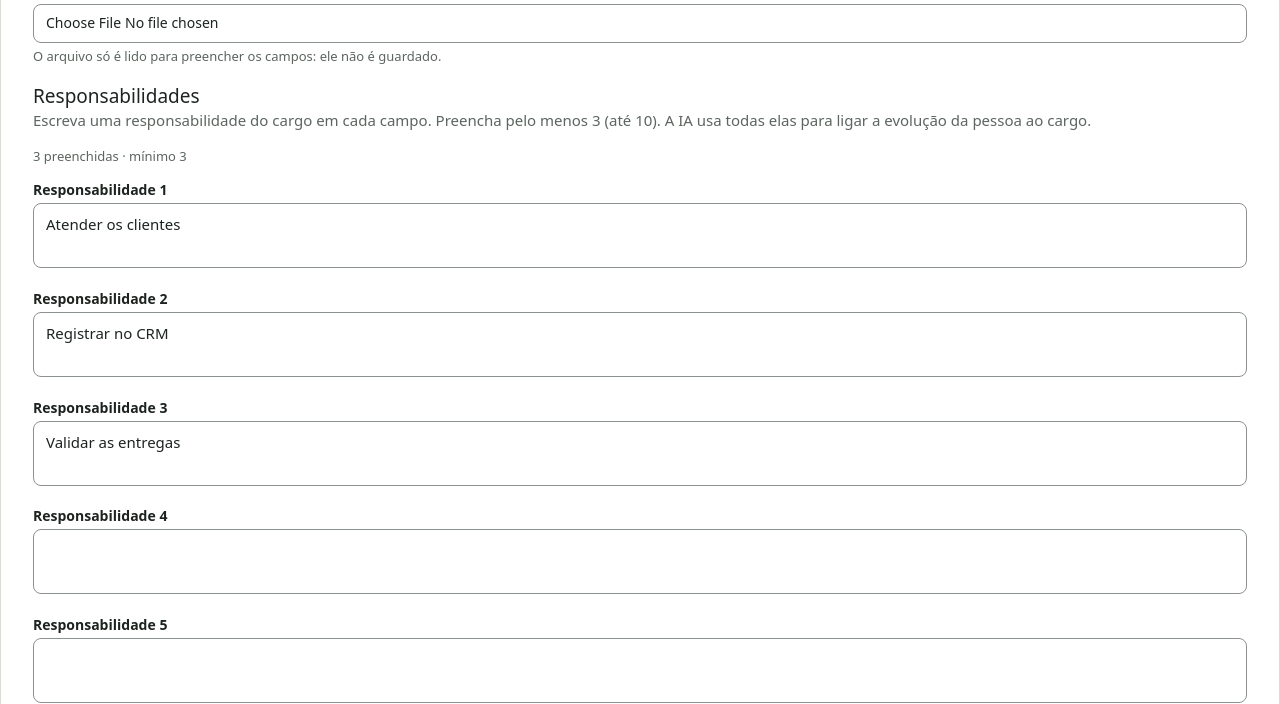
Test: ResponsibilityMapSection › não deve salvar com menos de 3 e deve dizer quantas faltam
The image size is (1280, 704).
(page scrolled)
Clear the text box labelled "Responsabilidade 2" at (640, 345), box [33, 312, 1247, 377]
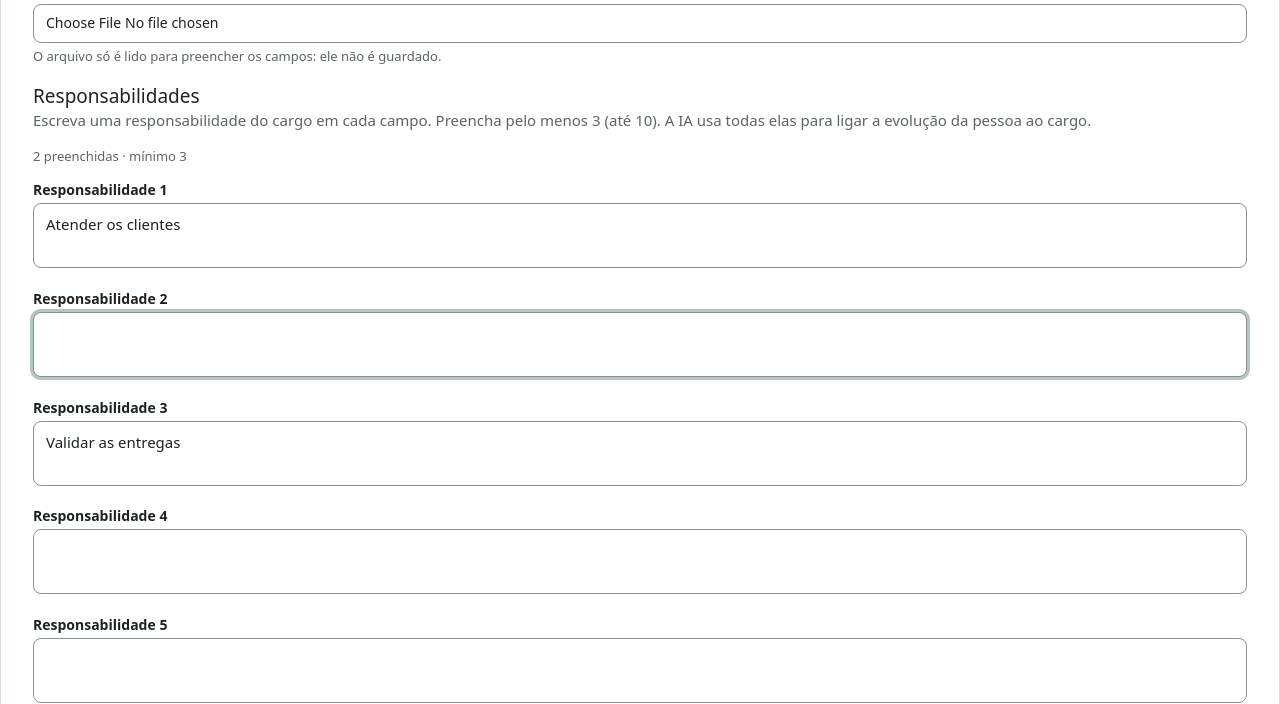
Clear the text box labelled "Responsabilidade 3" at (640, 453), box [33, 421, 1247, 486]
(page scrolled)
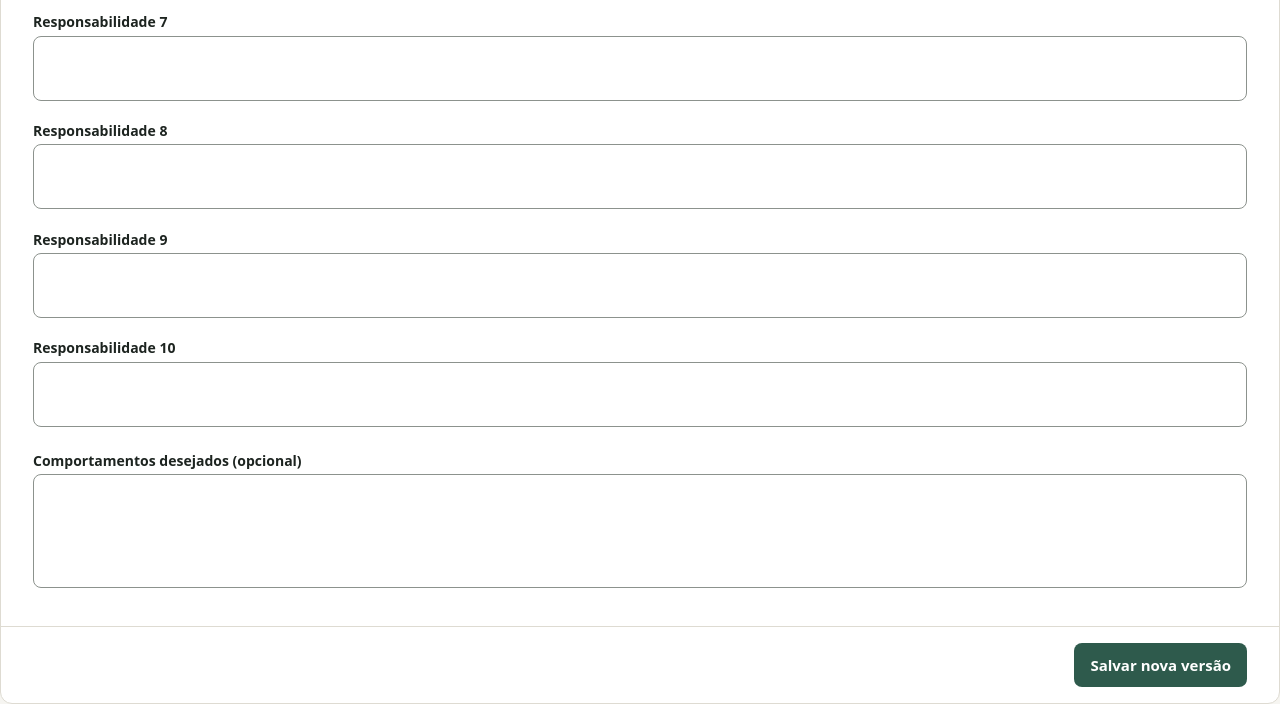
Click the button "Salvar nova versão" at (1161, 665), box [1074, 643, 1247, 687]
(page scrolled)
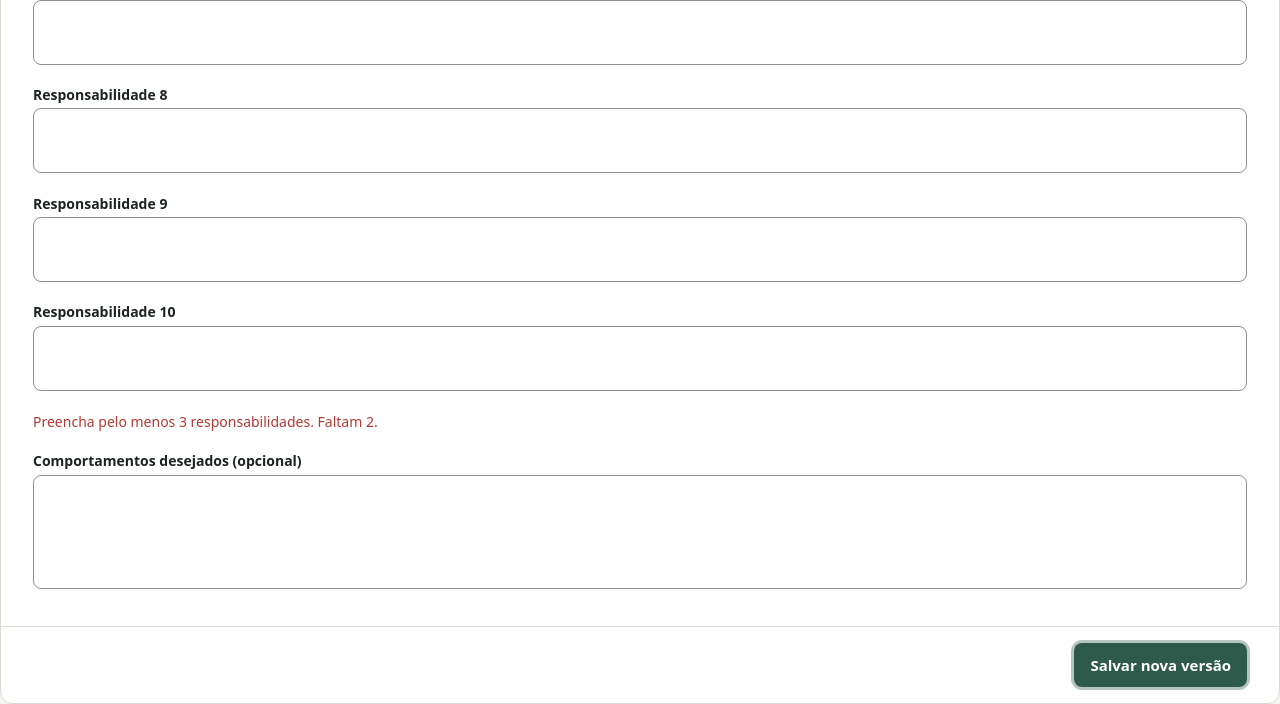
Expected: the message shows "Faltam 2", [33, 412, 378, 431]
